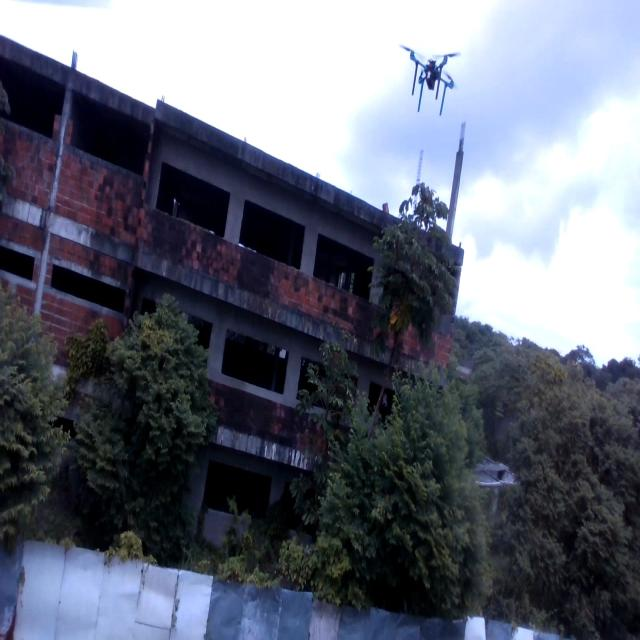-uav-: (395, 27, 465, 133)
